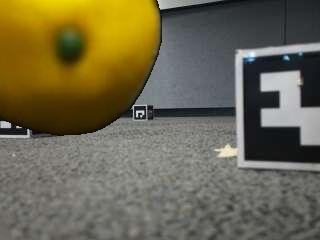lemon: (0, 0, 161, 135)
